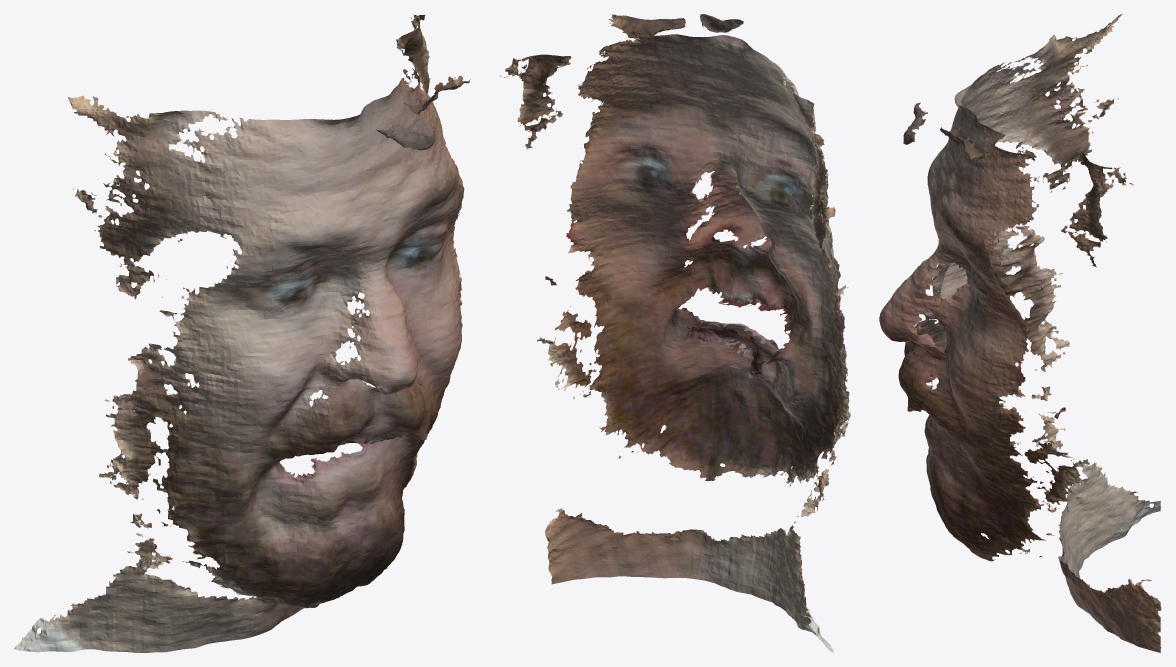
The model's file is cole.glb.
3 renders of one model, left to right at view 1: azimuth 30°, elevation 25°; view 2: azimuth 150°, elevation 25°; view 3: azimuth 270°, elevation 25°, orthographic. The views are drawn at different scales.
Bounding box in the file's own units: 0.1823 × 0.249 × 0.1244.
